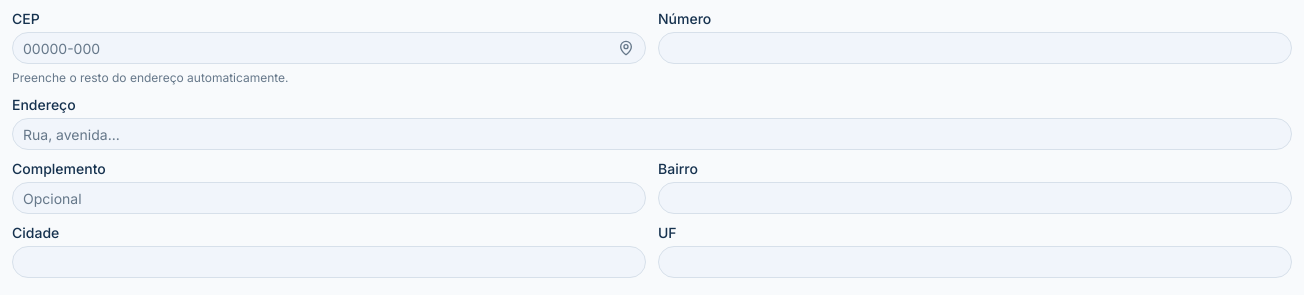
Test: AddressFields › auto-fills street/district/city/state from ViaCEP when a CEP is entered
Type "01310-930" into the field labelled "CEP". click: (329, 48)
box: x1=12 y1=32 x2=646 y2=64
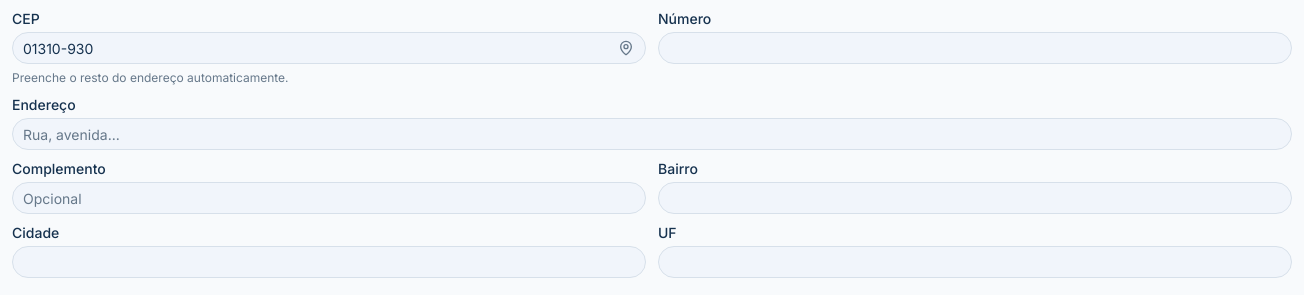
Leave the field labelled "CEP", box x1=12 y1=32 x2=646 y2=64
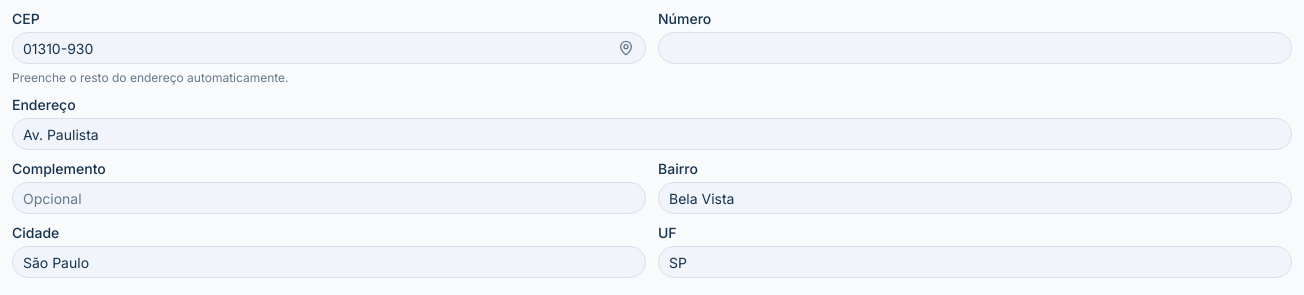
Result: the field labelled "Endereço" holds "Av. Paulista" at x1=12 y1=118 x2=1292 y2=150
Result: the field labelled "Bairro" holds "Bela Vista" at x1=658 y1=182 x2=1292 y2=214
Result: the field labelled "Cidade" holds "São Paulo" at x1=12 y1=246 x2=646 y2=278
